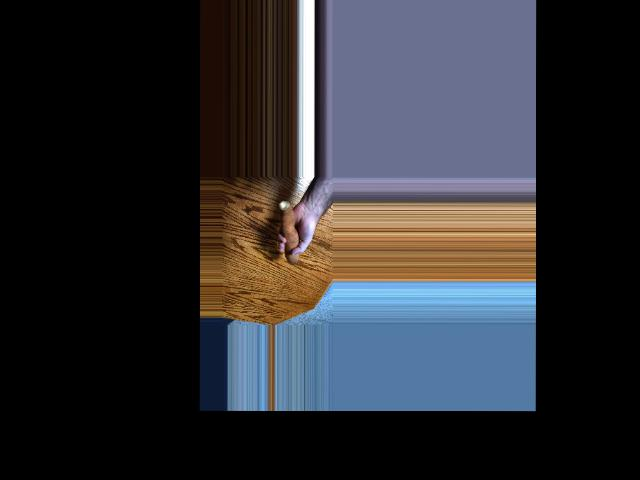sweet_potato: (280, 198, 302, 269)
